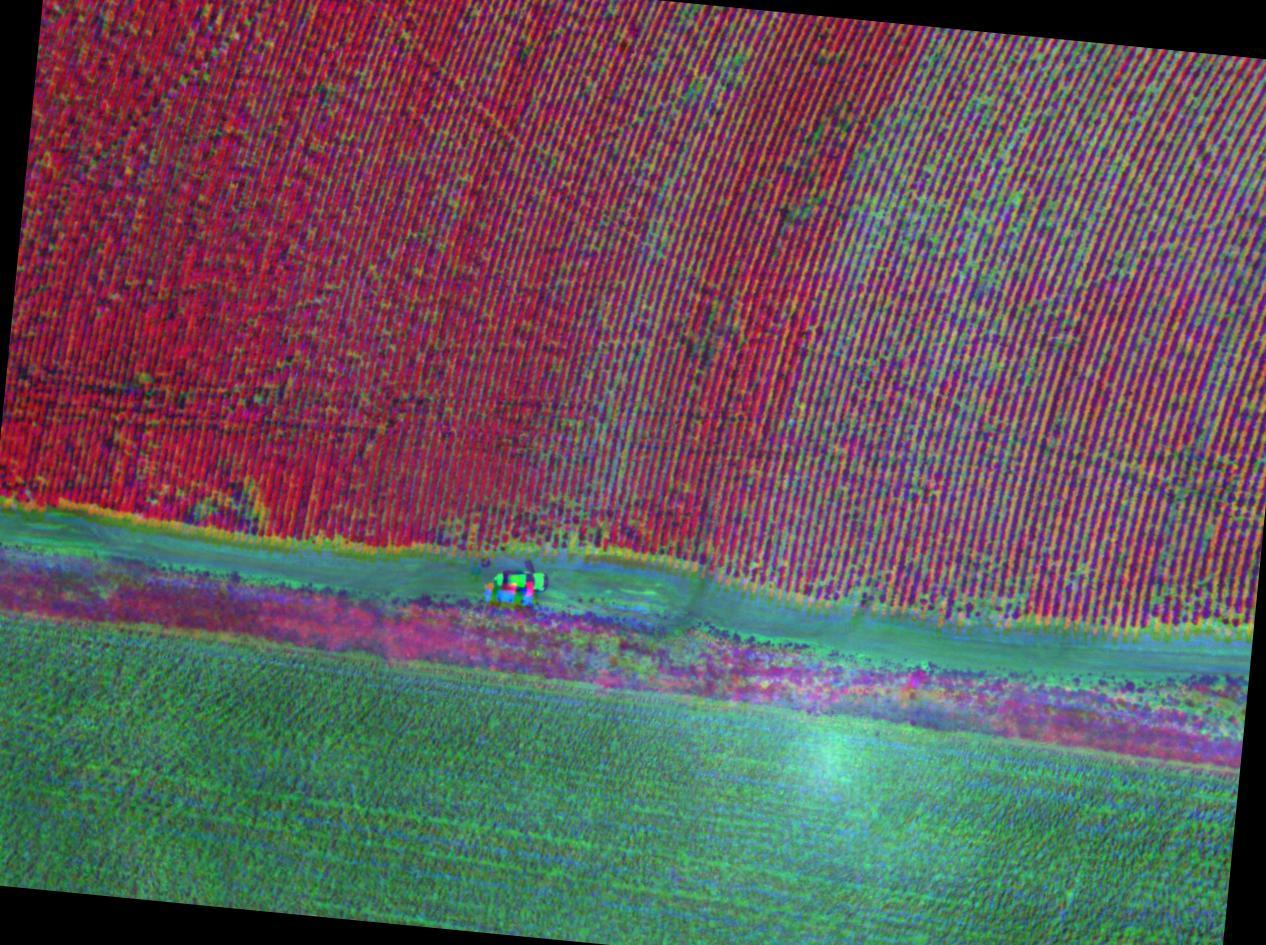dc: (841, 560, 1032, 626), (1146, 540, 1265, 642), (968, 173, 1053, 294), (1071, 110, 1155, 212), (853, 158, 944, 252), (918, 68, 1008, 150)
